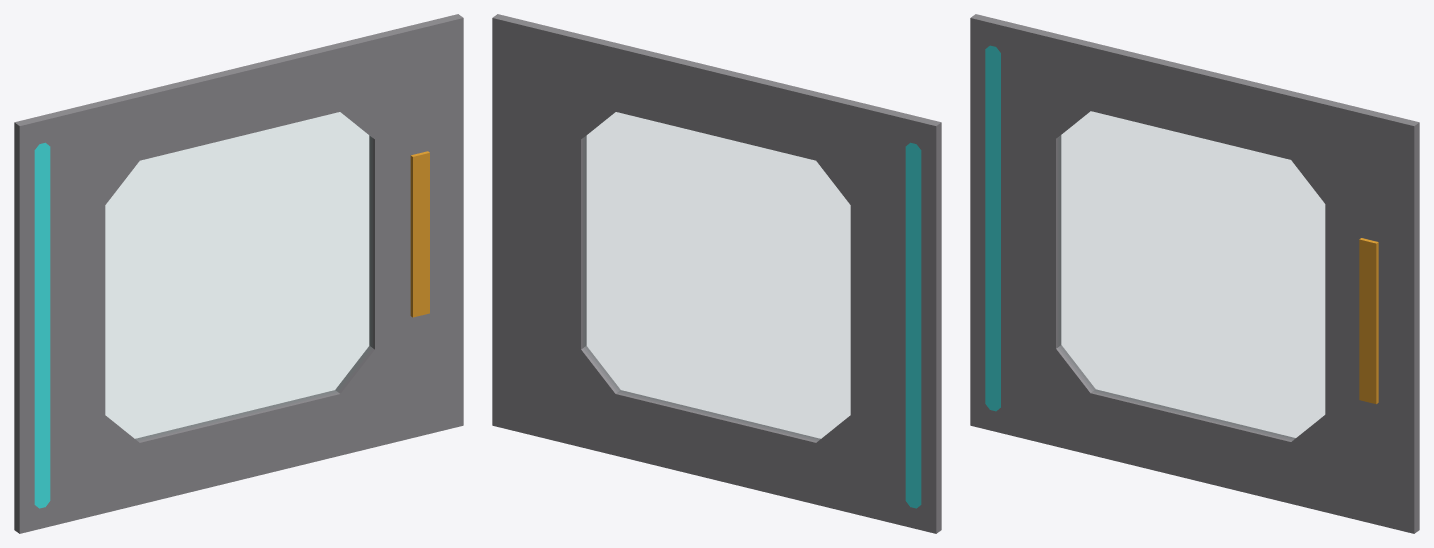
The model's file is SM_Props_Agro_07_Door_L.fbx.
3 renders of one model, left to right at view 1: azimuth 30°, elevation 25°; view 2: azimuth 150°, elevation 25°; view 3: azimuth 330°, elevation 25°, orthographic.
Parts seen in each view (by area): view 1: SM_Props_Agro_07_Door_L; view 2: SM_Props_Agro_07_Door_L; view 3: SM_Props_Agro_07_Door_L.
Boxes of the visible parts, x1=… form: SM_Props_Agro_07_Door_L: x1=14, y1=14, x2=463, y2=533; SM_Props_Agro_07_Door_L: x1=492, y1=14, x2=941, y2=533; SM_Props_Agro_07_Door_L: x1=970, y1=14, x2=1419, y2=533.
Bounding box in the file's own units: 1.36 × 1.19 × 0.0398.
